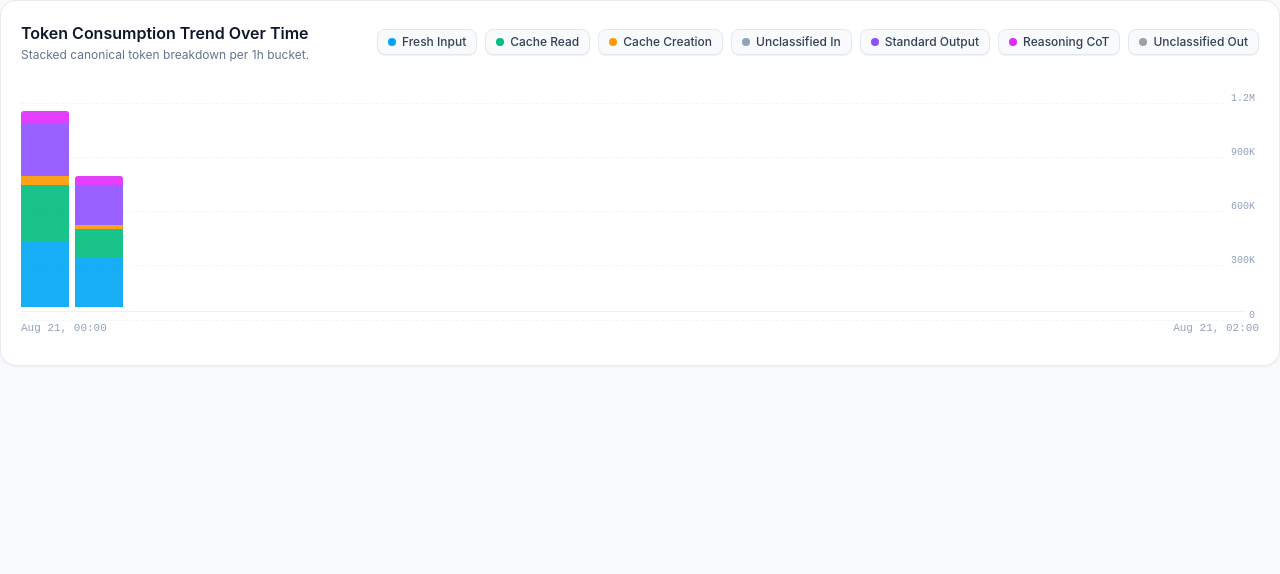
Test: TokenTrendChart › renders rich tooltip on bucket hover
This screenshot has width=1280, height=574.
Hover over the button named "Bucket" at (45, 209), box [21,111,69,307]
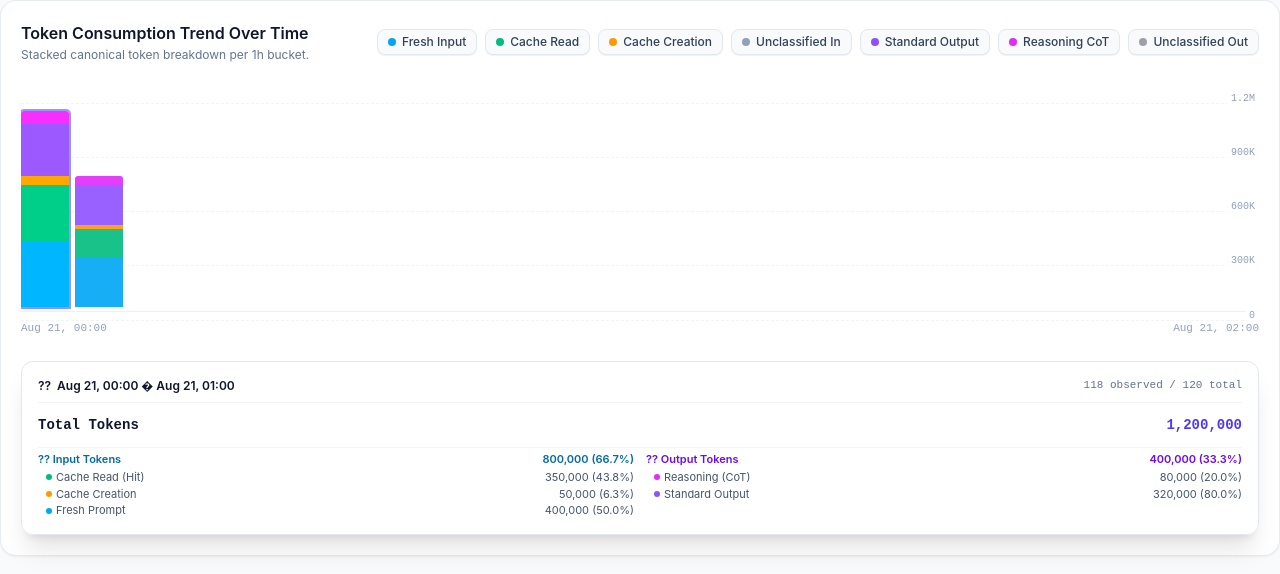
Check: the tooltip shows "1,200,000", box [1166,416,1242,432]
Check: the tooltip shows "118 observed / 120 total", box [21,360,1259,535]
Check: the tooltip shows "800,000", box [542,452,589,466]
